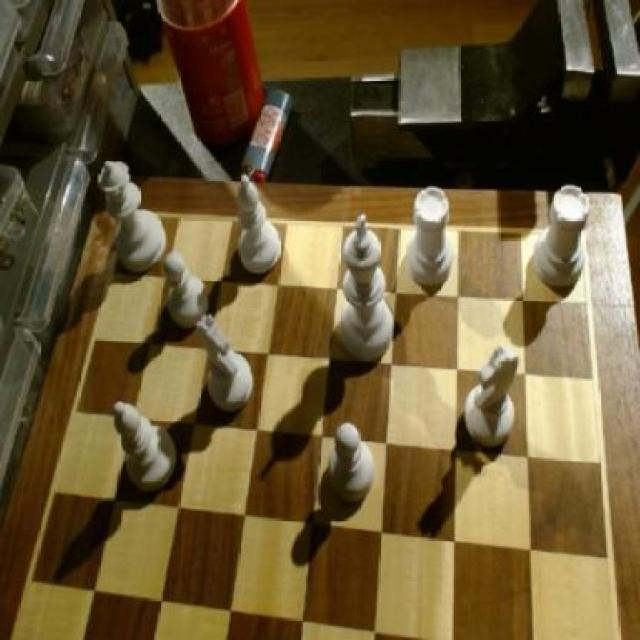black-rook: (114, 398, 181, 498), (232, 177, 284, 281)
white-bishop: (329, 212, 397, 366)
white-king: (464, 342, 526, 452), (200, 316, 262, 420)
white-knight: (328, 418, 382, 514), (163, 248, 213, 335)
white-pawn: (95, 158, 170, 276)
white-queen: (530, 183, 594, 302), (408, 185, 458, 296)
